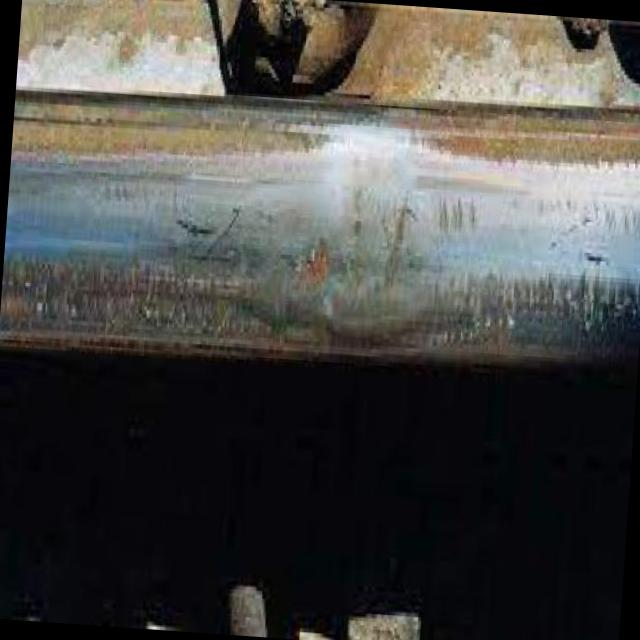non-defective: (0, 18, 640, 555)
